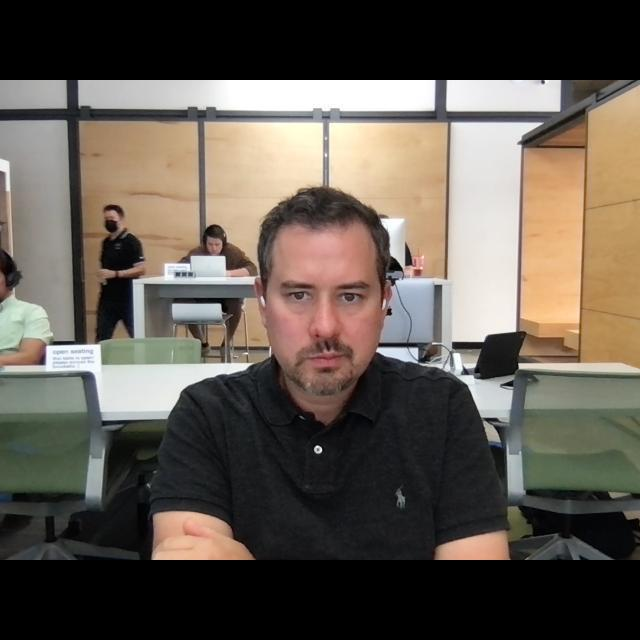Mask: (104, 221, 119, 230)
NO-Hardhat: (259, 185, 379, 252), (203, 224, 225, 237), (0, 247, 13, 268), (104, 202, 123, 214)
NO-Mask: (283, 341, 368, 393), (0, 282, 8, 301), (209, 244, 222, 253)
NO-Safety Vest: (219, 378, 447, 560), (96, 237, 134, 310), (0, 302, 33, 351), (199, 244, 238, 269)
Person: (143, 185, 515, 560), (177, 223, 257, 355), (93, 199, 144, 335), (0, 246, 52, 370), (378, 213, 415, 263)
